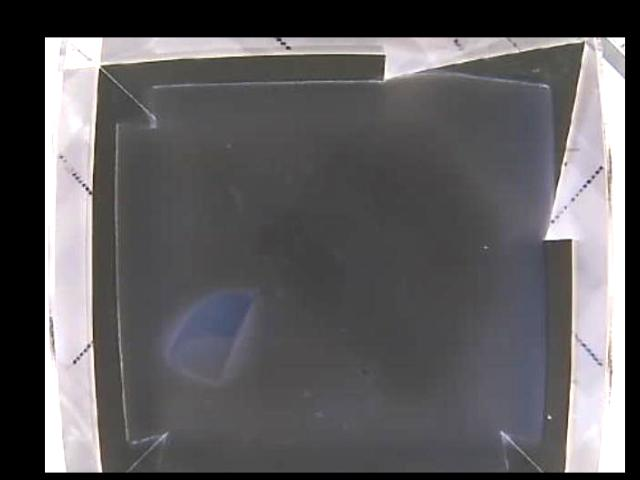Mooli: (166, 291, 254, 383)
